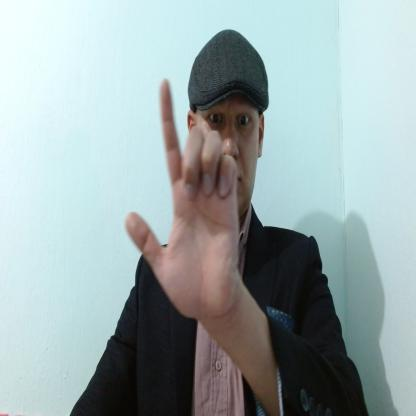L: (124, 78, 238, 321)
